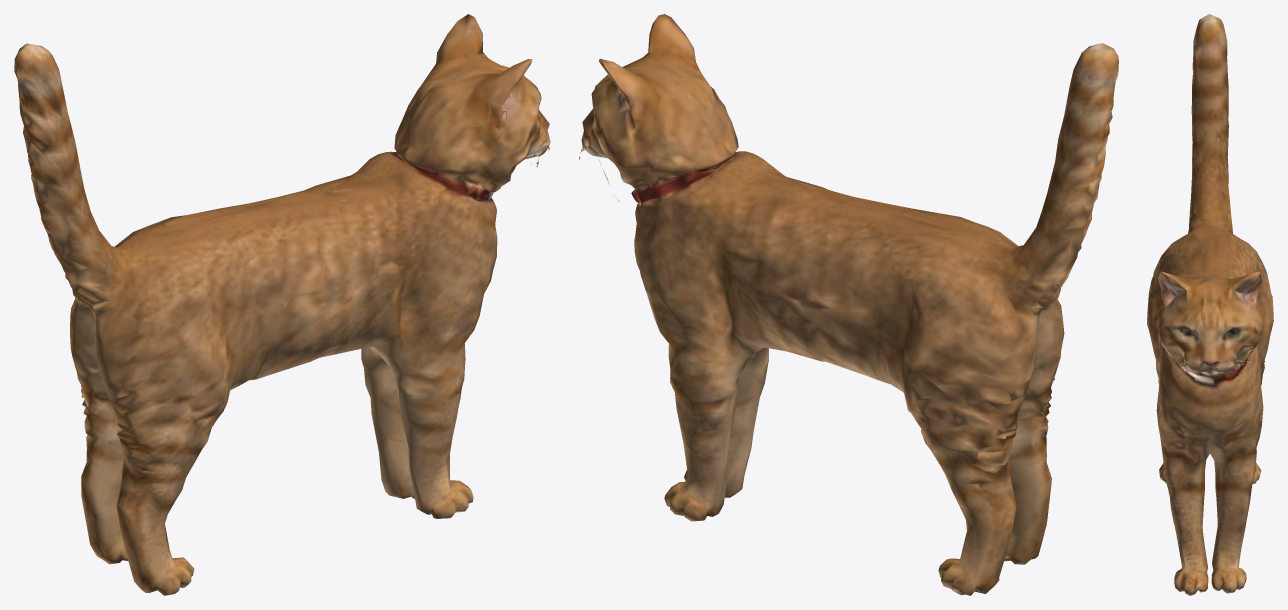
The model's file is RIDOKUN-lo.glb.
3 views of the same model, side by side, from view 1: azimuth 30°, elevation 25°; view 2: azimuth 150°, elevation 25°; view 3: azimuth 270°, elevation 25° (orthographic). The views are drawn at different scales.
Parts seen in each view (by area): view 1: tripo_node_065330f7-2fc1-47a5-a2f9-e6762075ba29; view 2: tripo_node_065330f7-2fc1-47a5-a2f9-e6762075ba29; view 3: tripo_node_065330f7-2fc1-47a5-a2f9-e6762075ba29.
Boxes of the visible parts, x1,y1,x2,y2 form: tripo_node_065330f7-2fc1-47a5-a2f9-e6762075ba29: [14, 14, 550, 595]; tripo_node_065330f7-2fc1-47a5-a2f9-e6762075ba29: [579, 14, 1118, 595]; tripo_node_065330f7-2fc1-47a5-a2f9-e6762075ba29: [1147, 14, 1273, 595].
Size of the model in its own units: 0.9965 by 0.9989 by 0.2706.
1 material, 1 textured.
